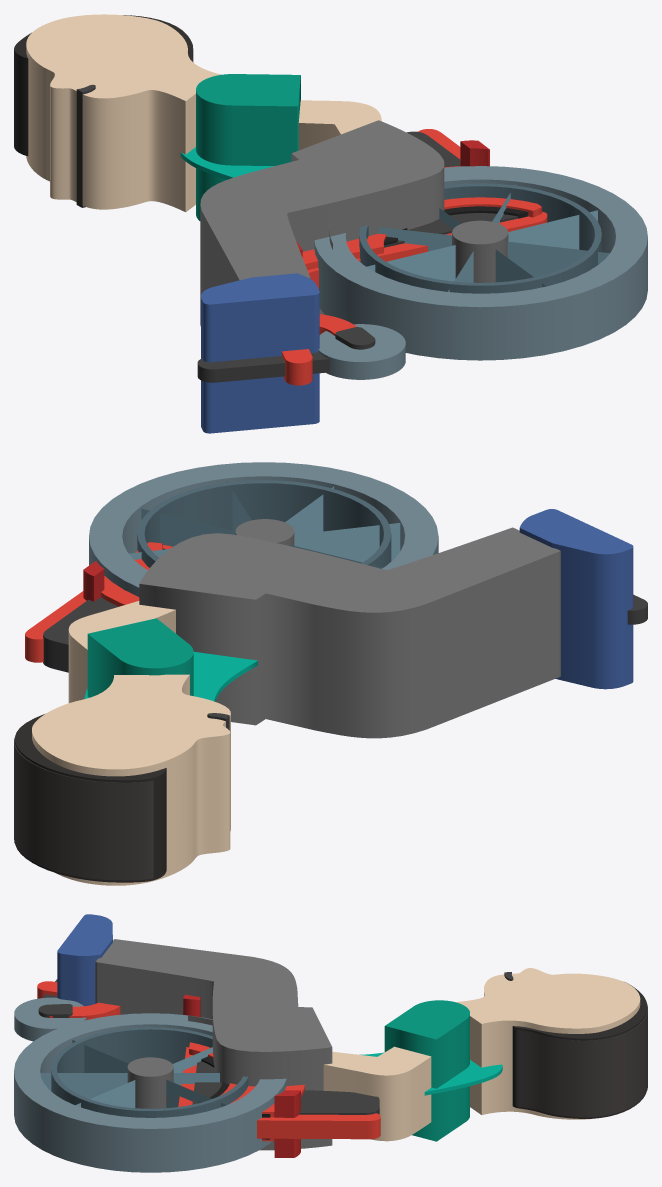
Rendered from emoji_u1f468_1f3fb_200d_1f9bd.glb.
The picture shows the model from 3 angles, top to bottom: view 1: azimuth 30°, elevation 25°; view 2: azimuth 150°, elevation 25°; view 3: azimuth 270°, elevation 25°; orthographic projection. The views are drawn at different scales.
Visible parts, largest first — view 1: emoji_u1f468_1f3fb_200d_1f9bd; view 2: emoji_u1f468_1f3fb_200d_1f9bd; view 3: emoji_u1f468_1f3fb_200d_1f9bd.
Boxes of the visible parts, box(x1,y1,x2,y2) form: emoji_u1f468_1f3fb_200d_1f9bd: box(14, 14, 647, 433); emoji_u1f468_1f3fb_200d_1f9bd: box(14, 462, 647, 885); emoji_u1f468_1f3fb_200d_1f9bd: box(14, 914, 647, 1172).
Bounding box in the file's own units: 0.022 × 0.0058 × 0.0315.
